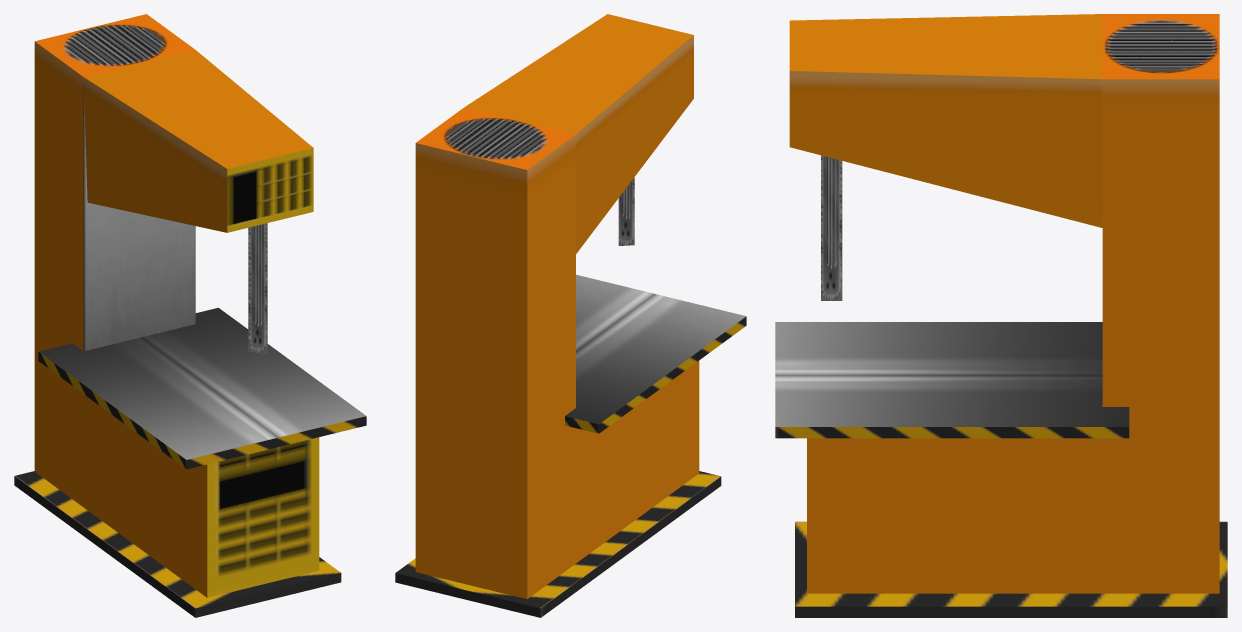
File: Band_Saw.fbx
3 views of the same model, side by side, from view 1: azimuth 30°, elevation 25°; view 2: azimuth 150°, elevation 25°; view 3: azimuth 270°, elevation 25° (orthographic). The views are drawn at different scales.
Parts seen in each view (by area): view 1: Band_Saw_1; view 2: Band_Saw_1; view 3: Band_Saw_1.
Boxes of the visible parts, left/top/right/bottom form: Band_Saw_1: left=14, top=14, right=366, bottom=617; Band_Saw_1: left=395, top=14, right=746, bottom=617; Band_Saw_1: left=775, top=14, right=1227, bottom=617.
Size of the model in its own units: 75.7 by 178 by 138.
